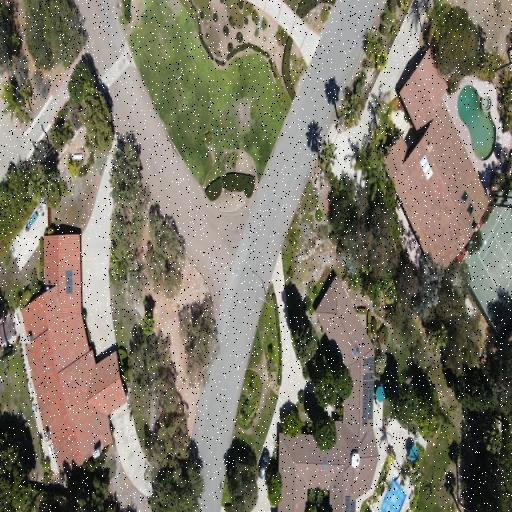solar-panel: (362, 381, 373, 426), (345, 496, 356, 512), (351, 342, 360, 359), (364, 357, 374, 370), (364, 373, 374, 380), (323, 457, 327, 471)
